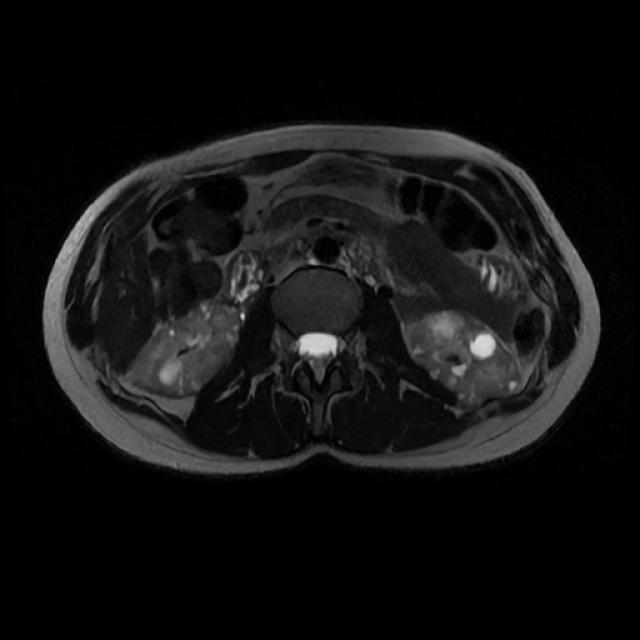sag: (127, 301, 242, 397)
sol: (402, 308, 520, 408)
